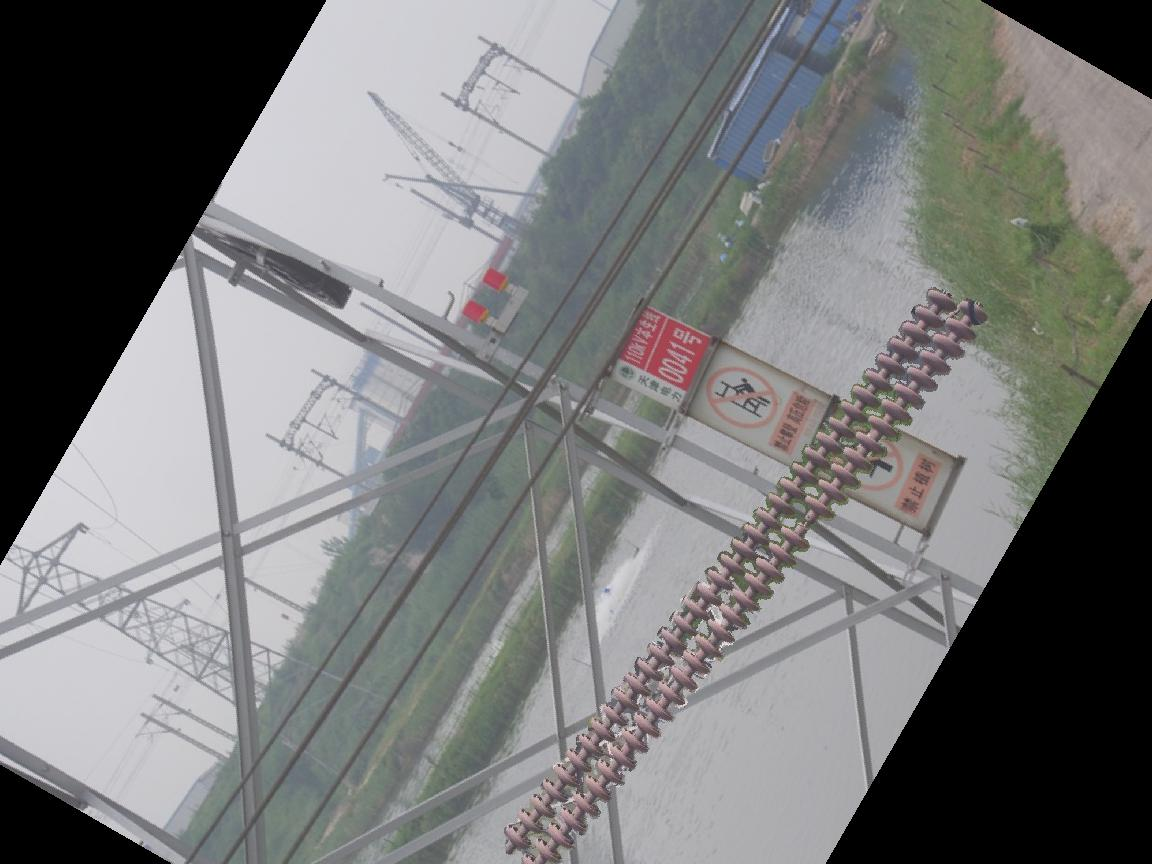insulator: (498, 284, 990, 864)
insulator_stringdrop: (775, 490, 837, 554)
